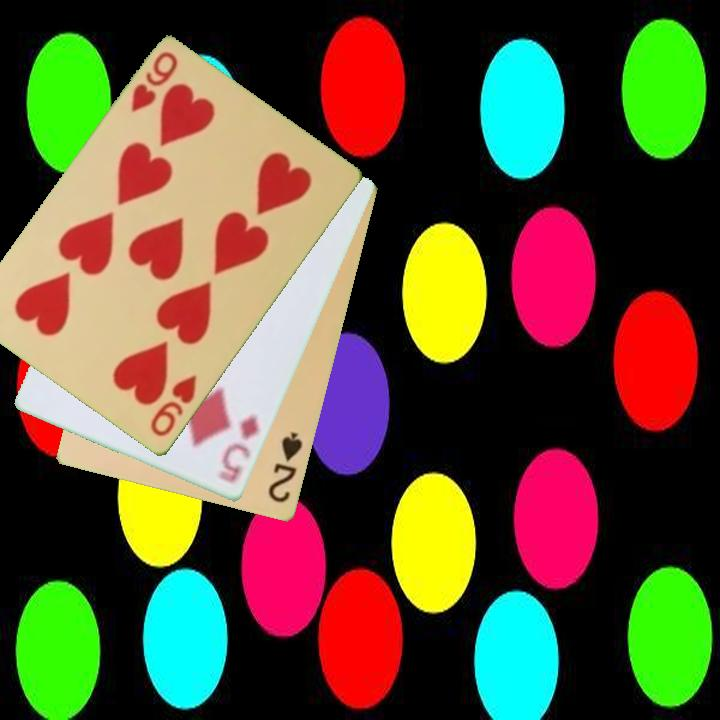2s: (265, 429, 306, 506)
5d: (214, 412, 263, 487)
9h: (146, 372, 200, 441), (127, 48, 181, 116)
